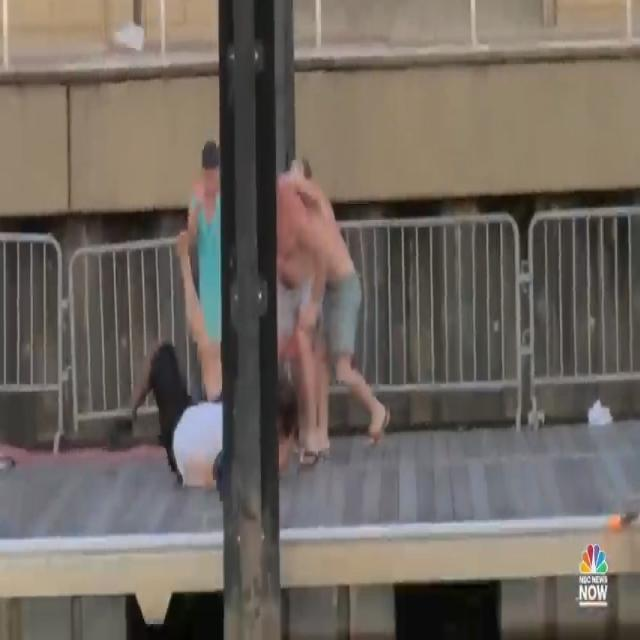fight: (112, 135, 396, 490)
